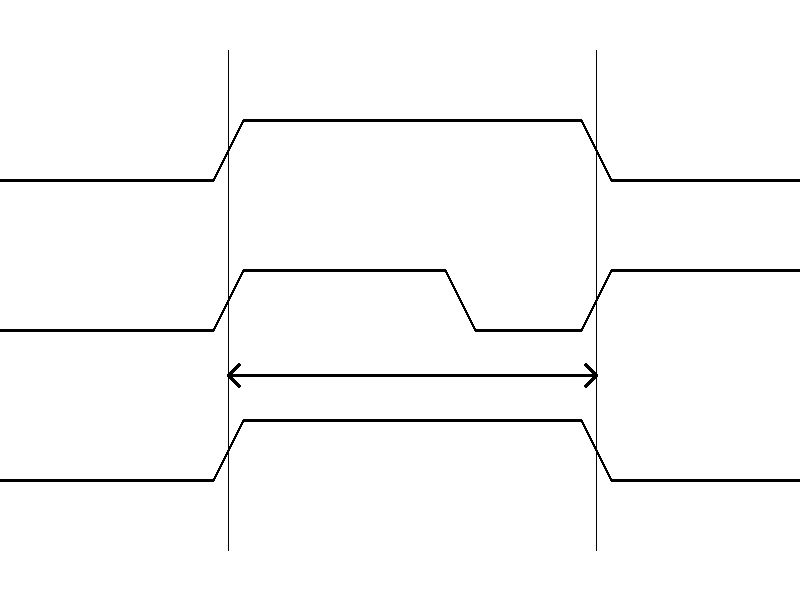double_arrow: (228, 360, 596, 390)
